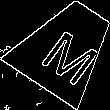M_NE: (31, 14, 101, 82)
